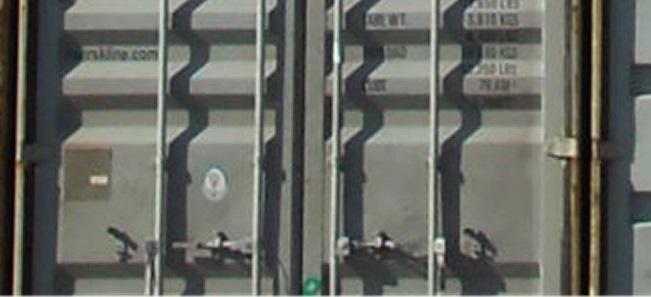container_door: (20, 1, 583, 294)
